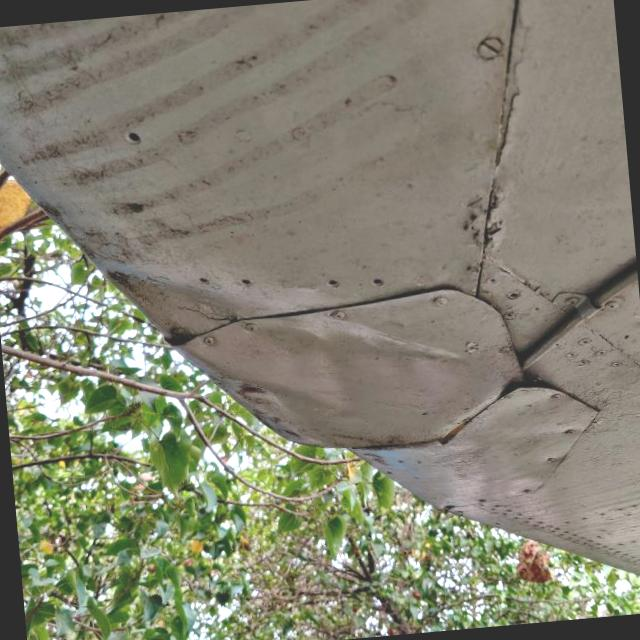dent: (100, 217, 483, 450)
